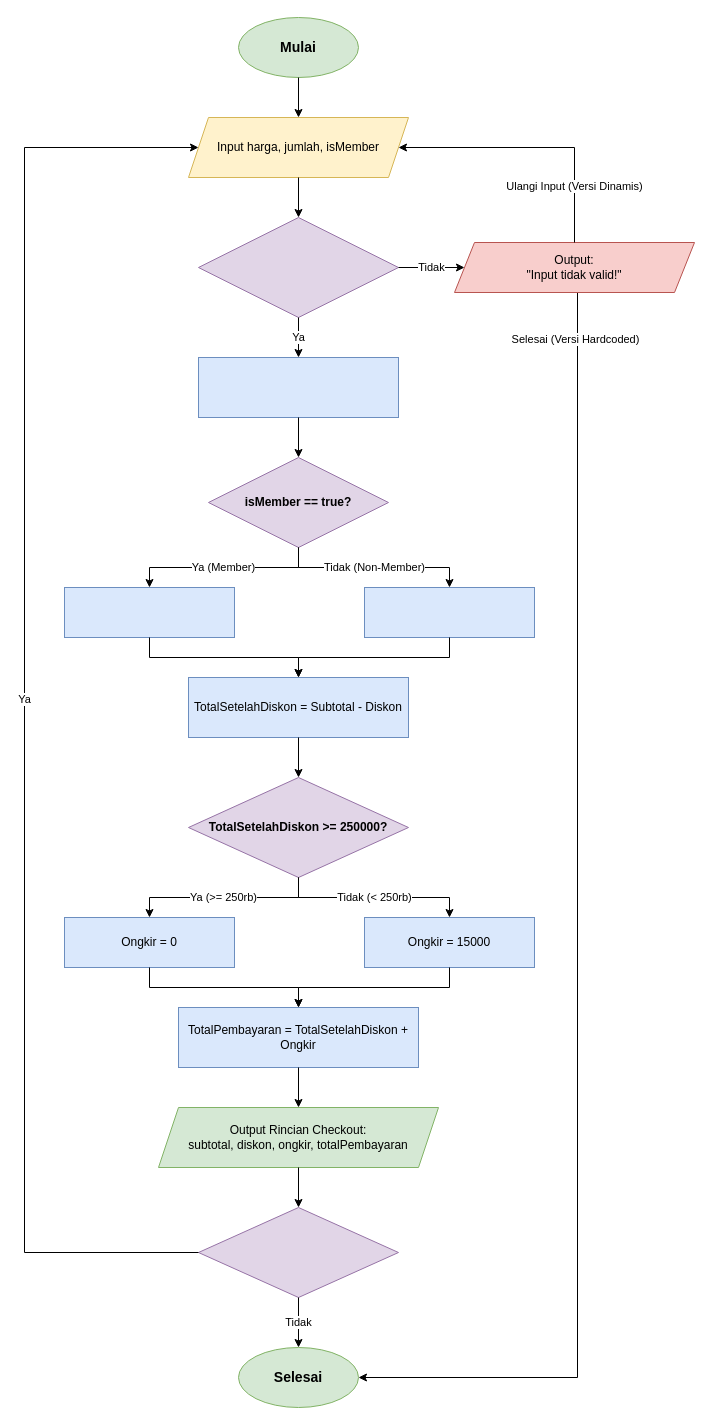
The diagram is 712 pixels wide and 1425 high, and some of its shapes have lost their labels. The shapes that lost their labels are listed below. From the top down, each one's box as (x1, y1, x2, y2) in pixels, then its label:
(198, 216, 398, 318): Harga > 0 AND Jumlah is Integer > 0?
(198, 356, 398, 418): Subtotal = harga * jumlah
(64, 586, 234, 638): Diskon = 10% * Subtotal
(364, 586, 534, 638): Diskon = 0
(198, 1206, 398, 1298): Hitung Transaksi Lain? (y/n) (Versi Dinamis)
